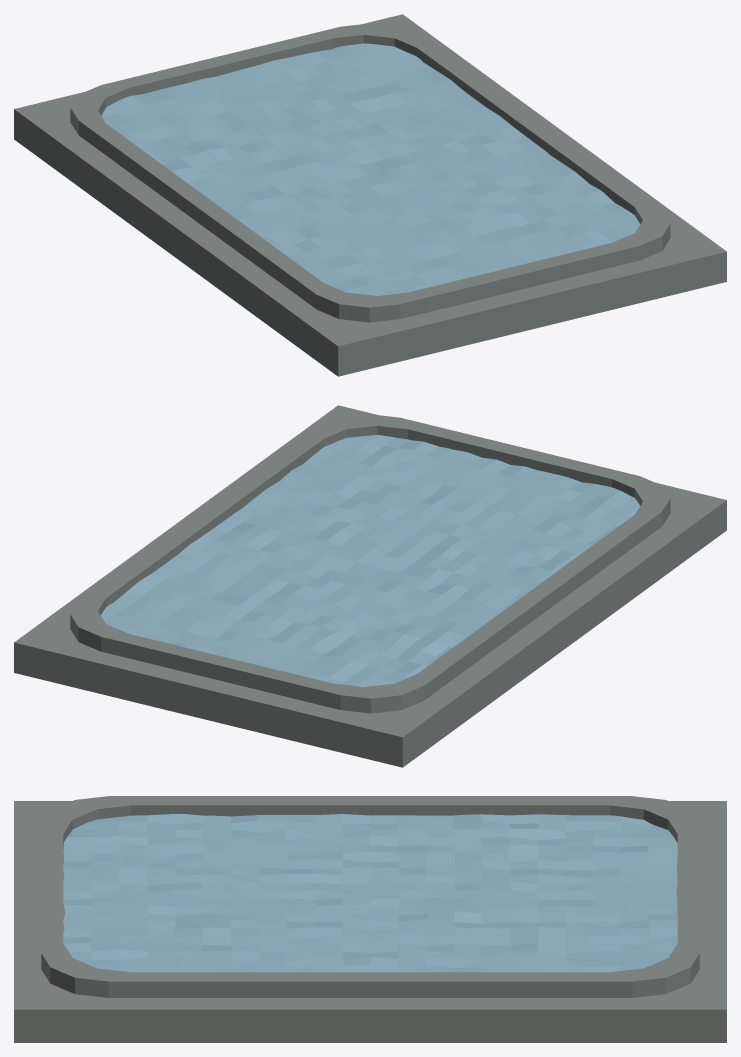
The model's file is SM_basin_01.glb.
The picture shows the model from 3 angles, top to bottom: view 1: azimuth 30°, elevation 25°; view 2: azimuth 150°, elevation 25°; view 3: azimuth 270°, elevation 25°; orthographic projection. The views are drawn at different scales.
Parts seen in each view (by area): view 1: SM_basin_01; view 2: SM_basin_01; view 3: SM_basin_01.
Boxes of the visible parts, x1,y1,x2,y2 form: SM_basin_01: (14, 14, 726, 376); SM_basin_01: (14, 405, 726, 767); SM_basin_01: (14, 796, 726, 1042).
Size of the model in its own units: 18 by 2 by 26.
Materials: 2 (1 with a texture image).
